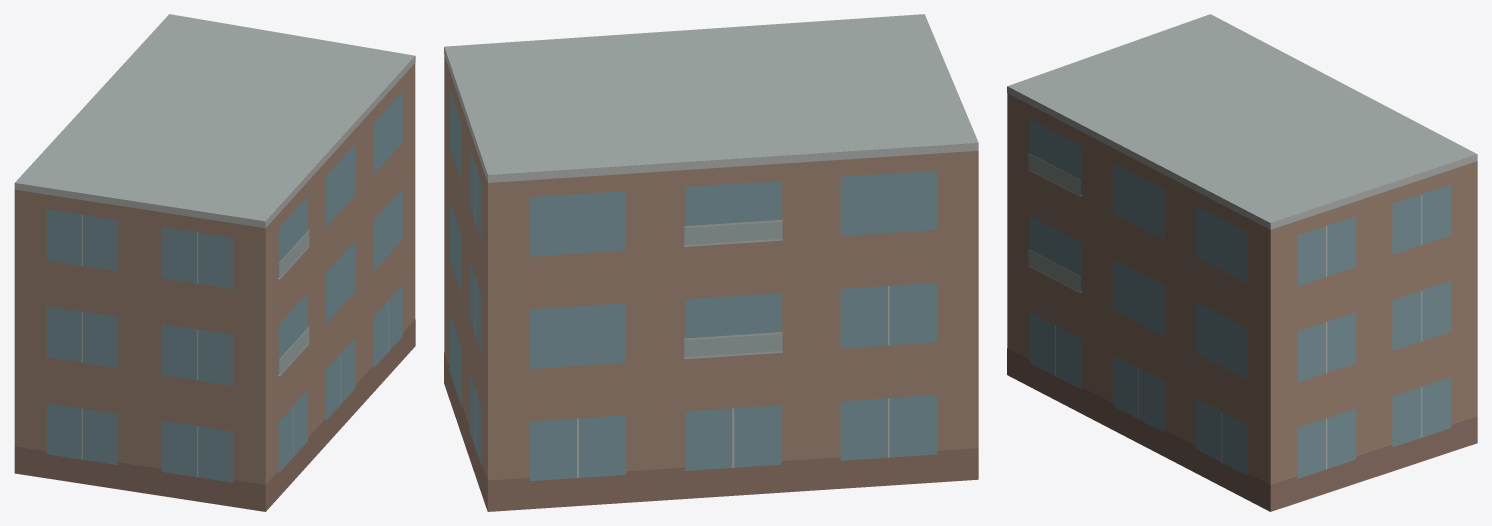
File: survey-upis-32922027.glb
3 views of the same model, side by side, from view 1: azimuth 30°, elevation 25°; view 2: azimuth 150°, elevation 25°; view 3: azimuth 270°, elevation 25° (orthographic). The views are drawn at different scales.
Parts seen in each view (by area): view 1: survey-upis-32922027.tmp; view 2: survey-upis-32922027.tmp; view 3: survey-upis-32922027.tmp.
Part boxes in pixels (left/top/right/bottom): survey-upis-32922027.tmp: left=14, top=14, right=415, bottom=511; survey-upis-32922027.tmp: left=444, top=14, right=978, bottom=511; survey-upis-32922027.tmp: left=1007, top=14, right=1477, bottom=511.
Size of the model in its own units: 16.16 by 10.4 by 15.36.
